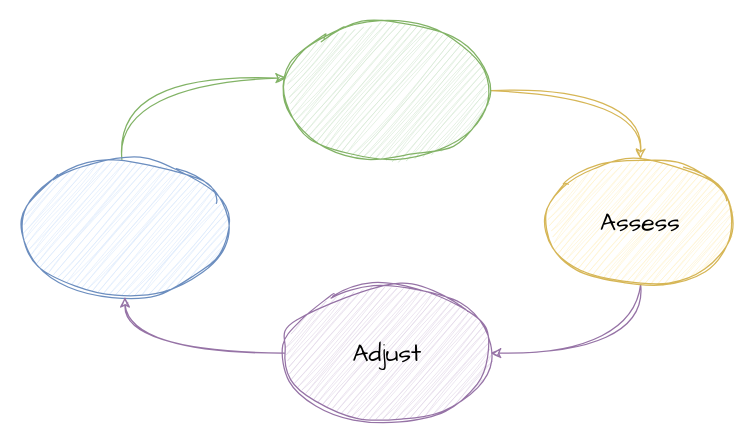
Image size: 756x444. Some labels were removed from this diagram. Here are the shapes that lost their labels. From the top down, the centre of each, then its label:
the point at 387,90: Measure
the point at 124,227: Act
